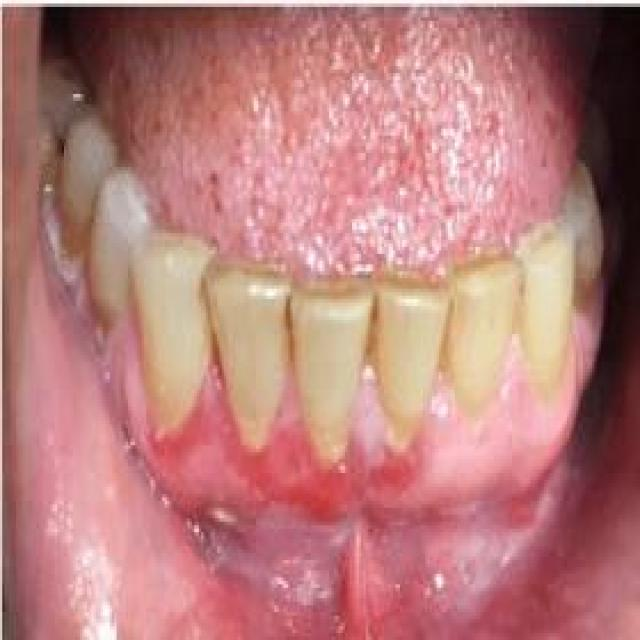Gingivitis: (244, 456, 401, 522)
